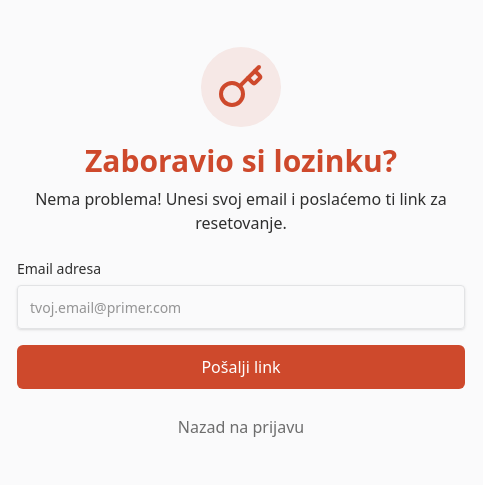
it: PasswordReset › displays error message on failure
The width and height of the screenshot is (483, 485).
Type "notfound@example.com" into the field at point(241, 307), box [17, 285, 465, 329]
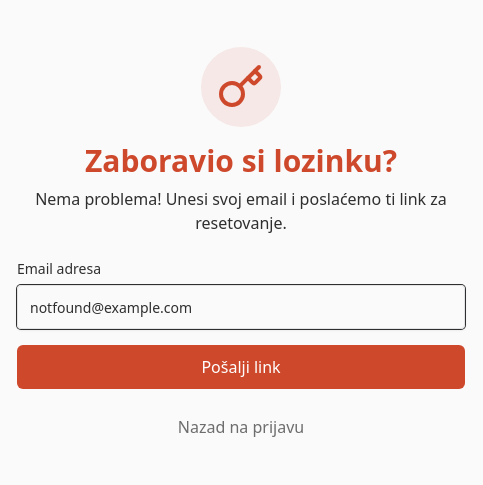
Click the button "Pošalji link" at point(241, 367), box [17, 345, 465, 389]
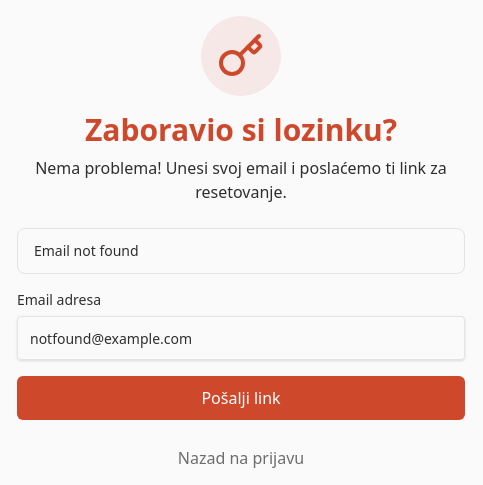
Check: the text "Email not found" is shown, box [17, 228, 465, 274]
